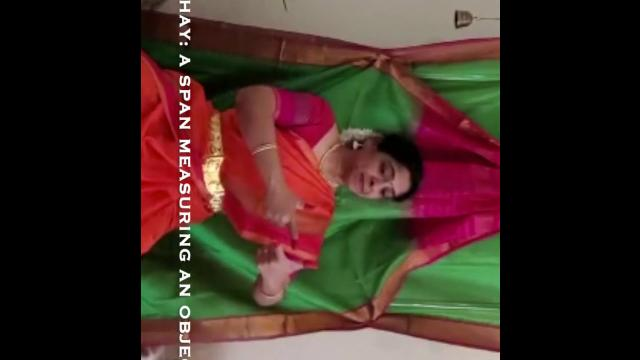chandrakala: (248, 235, 326, 301), (254, 186, 324, 250)
